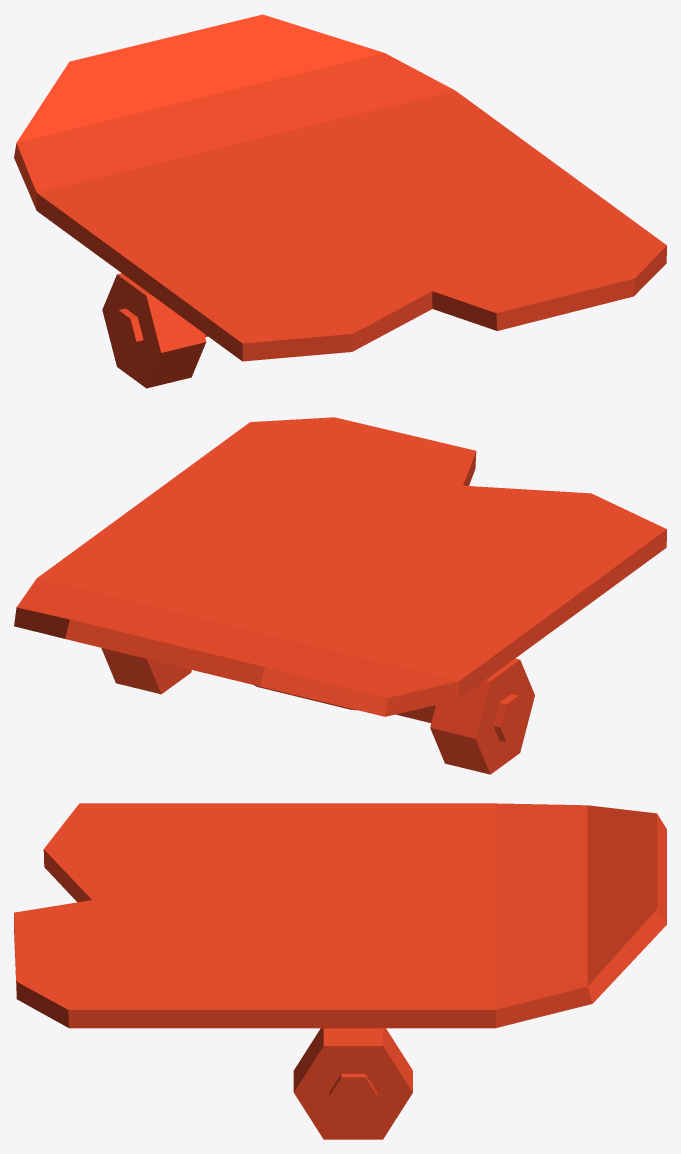
The model's file is SM_Skateboard_Broken_B_City.fbx.
The picture shows the model from 3 angles, top to bottom: view 1: azimuth 30°, elevation 25°; view 2: azimuth 150°, elevation 25°; view 3: azimuth 270°, elevation 25°; orthographic projection.
Parts seen in each view (by area): view 1: SM_Skateboard_Broken_B_City; view 2: SM_Skateboard_Broken_B_City; view 3: SM_Skateboard_Broken_B_City.
Boxes of the visible parts, x1=… form: SM_Skateboard_Broken_B_City: x1=14, y1=14, x2=666, y2=388; SM_Skateboard_Broken_B_City: x1=14, y1=417, x2=666, y2=774; SM_Skateboard_Broken_B_City: x1=14, y1=803, x2=666, y2=1139.
Size of the model in its own units: 0.3187 by 0.1342 by 0.426.
